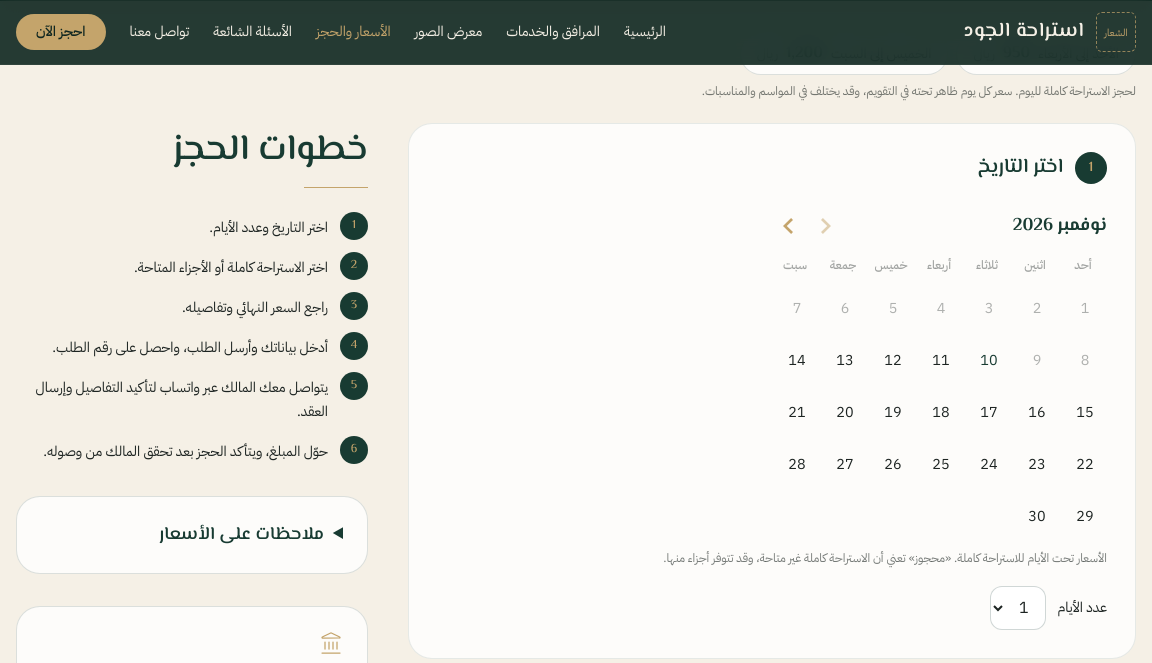
Test: booking form › shows the server's message when the date was just taken
The width and height of the screenshot is (1152, 663).
(page scrolled)
Click the button named "12 نوفمبر 2026" at (893, 360), box [871, 336, 915, 384]
(page scrolled)
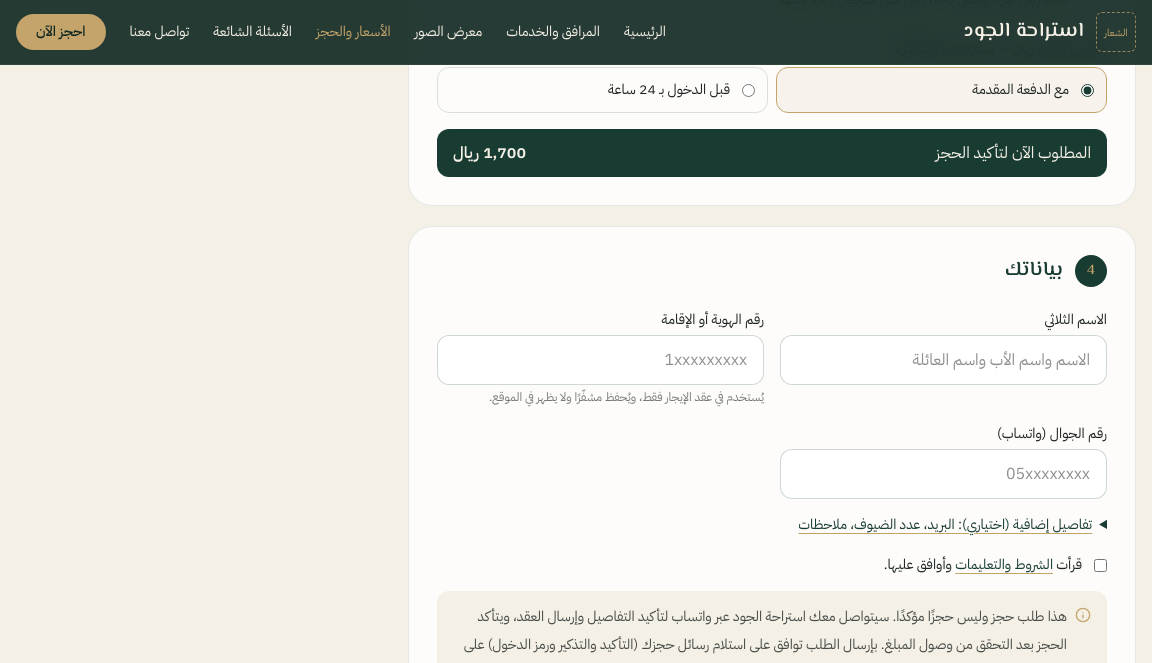
Type "سارة محمد القحطاني" into the field labelled "الاسم الثلاثي" at (944, 360), box [780, 335, 1107, 385]
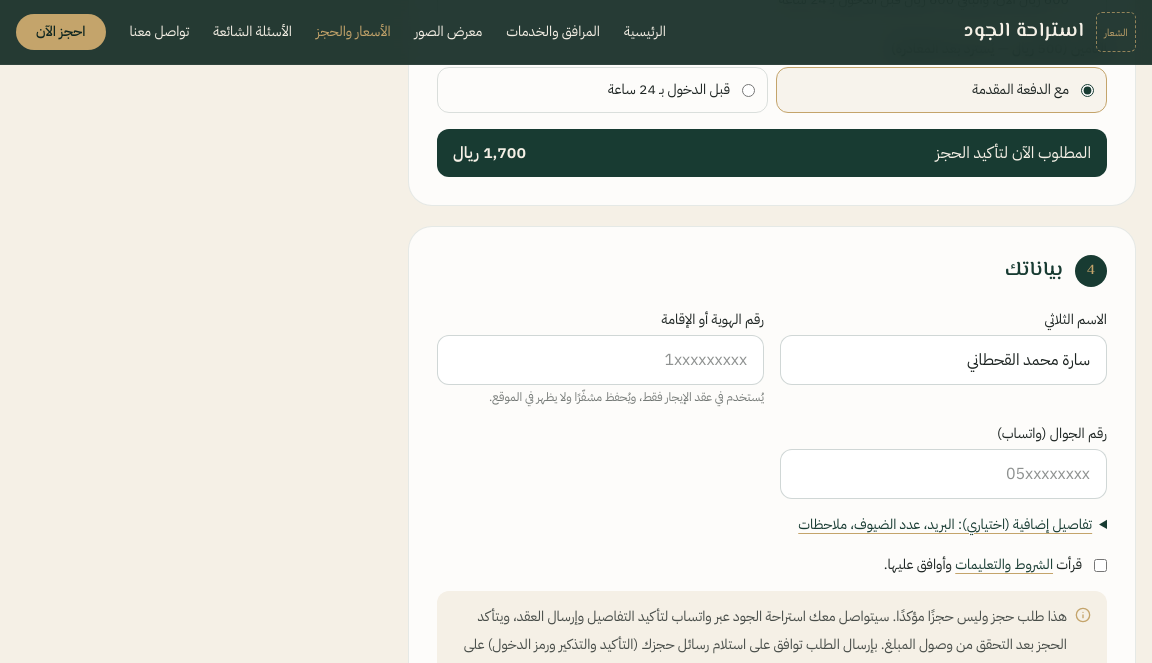
Type "1023456789" into the field labelled "رقم الهوية أو الإقامة" at (600, 360), box [437, 335, 764, 385]
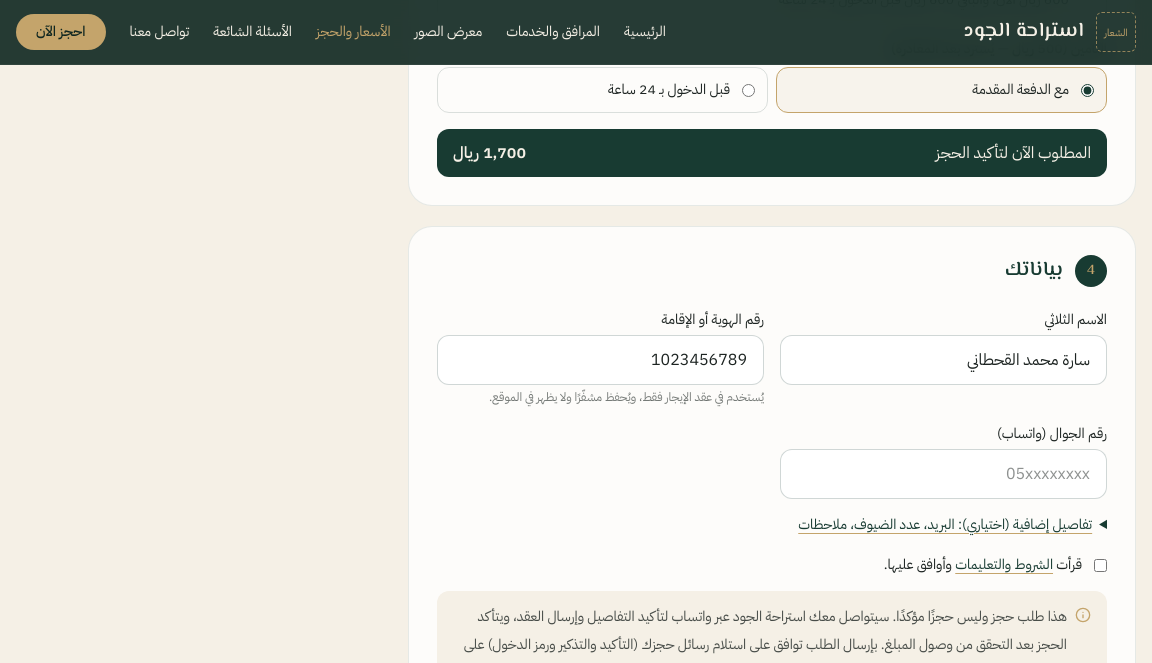
Type "0501234567" into the field labelled "رقم الجوال (واتساب)" at (944, 474), box [780, 449, 1107, 499]
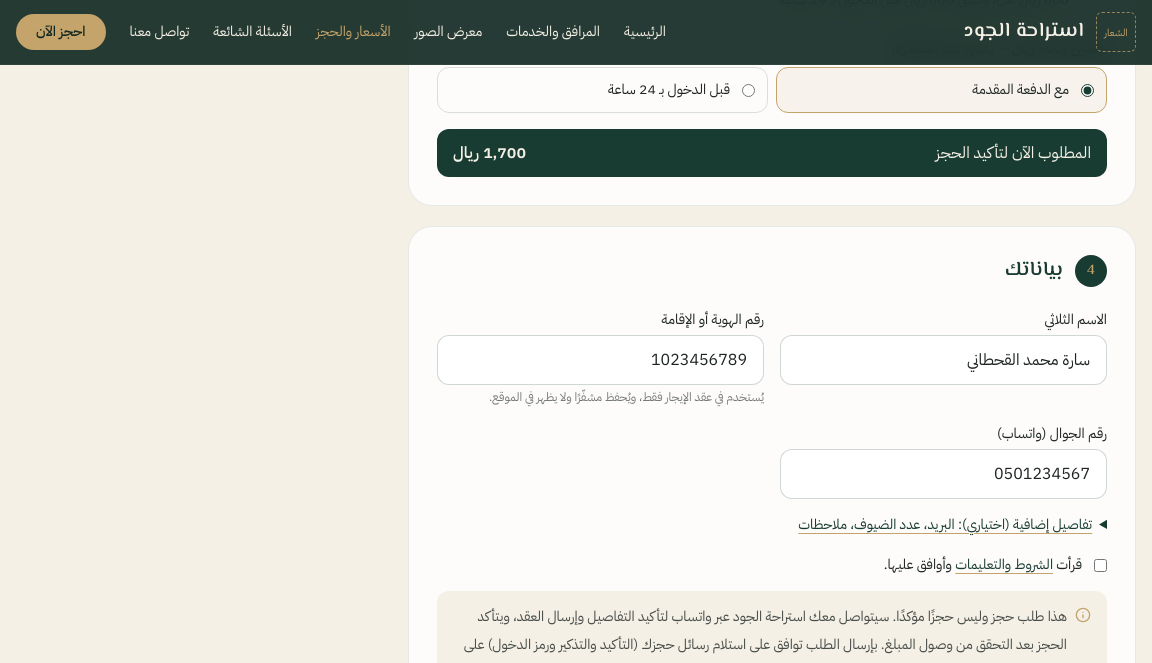
Click the checkbox labelled "قرأت الشروط والتعليمات وأوافق عليها." at (1100, 566), box [1094, 559, 1107, 572]
(page scrolled)
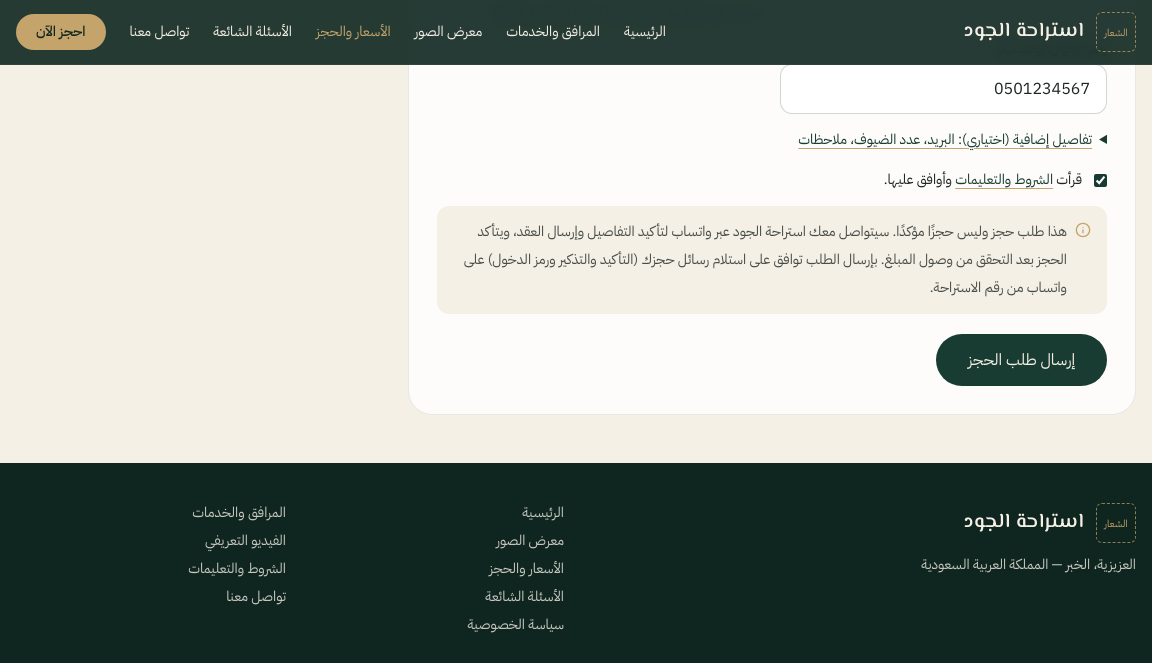
Click the button "إرسال طلب الحجز" at (1022, 360), box [936, 334, 1107, 386]
(page scrolled)
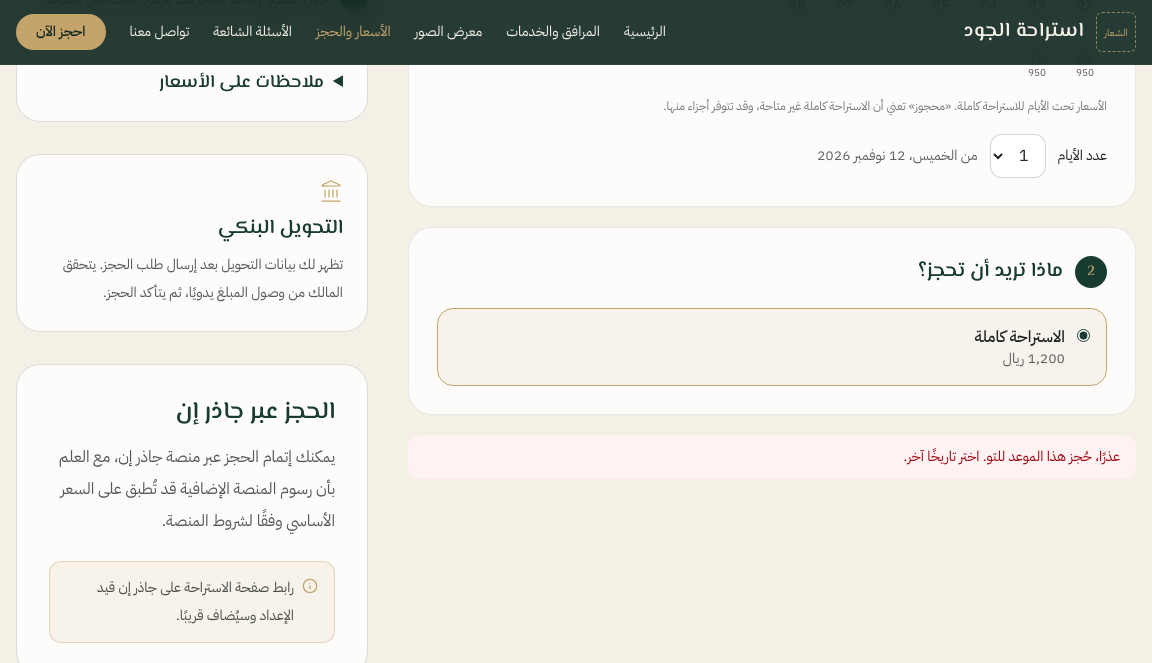
Check: the message shows "حُجز هذا الموعد للتو", box [904, 446, 1120, 467]
